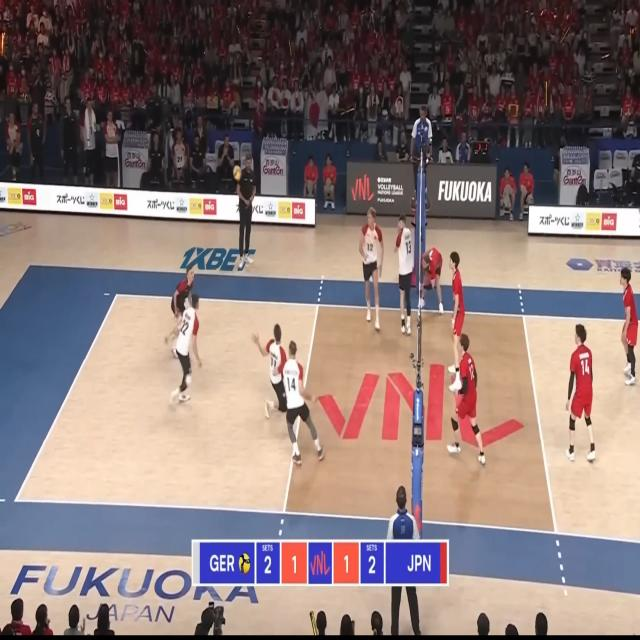ball: (234, 167, 241, 180)
